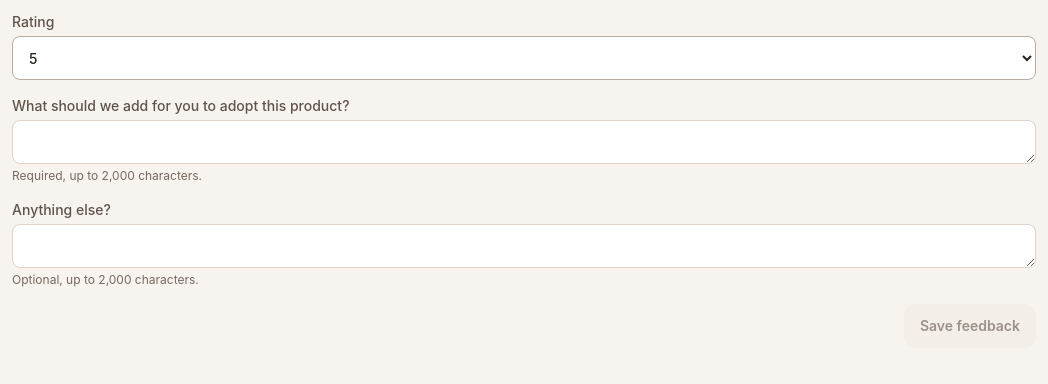
feedback form › does not show required-field errors before the user interacts
In the text box labelled "What should we add for you to adopt this product?": (524, 142) [12, 120, 1036, 164], type "Inventory import"
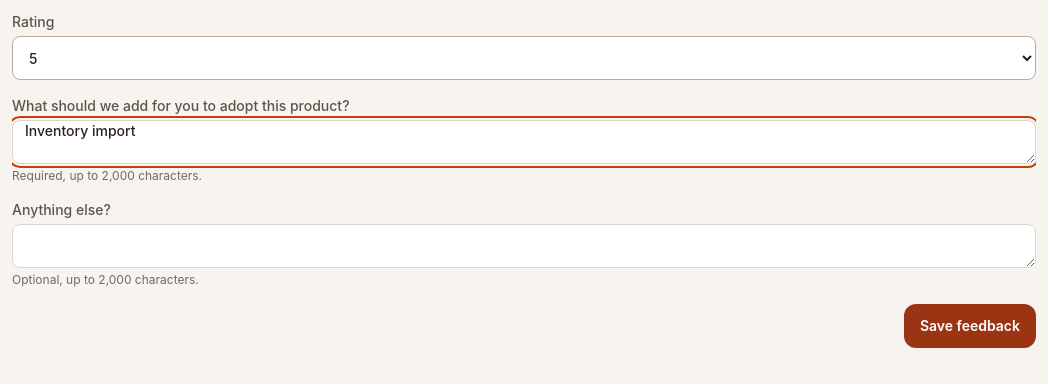
Clear the text box labelled "What should we add for you to adopt this product?": (524, 142) [12, 120, 1036, 164]
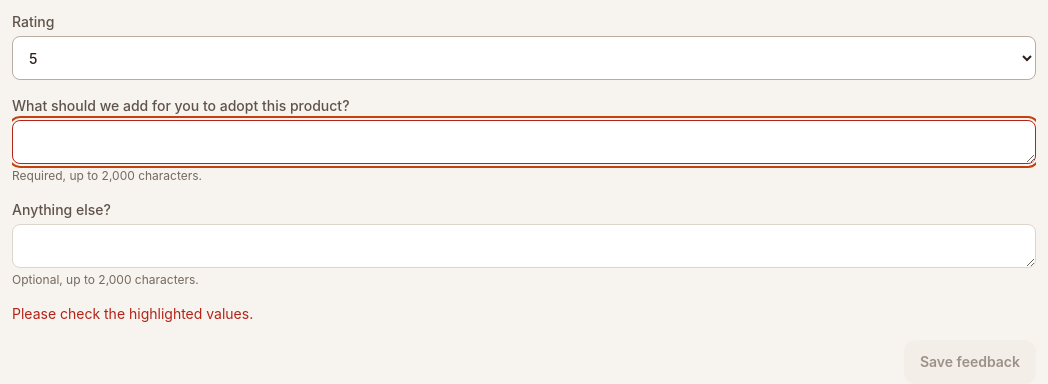
Check: the message "Please check the highlighted values." is shown, box [12, 305, 253, 322]
